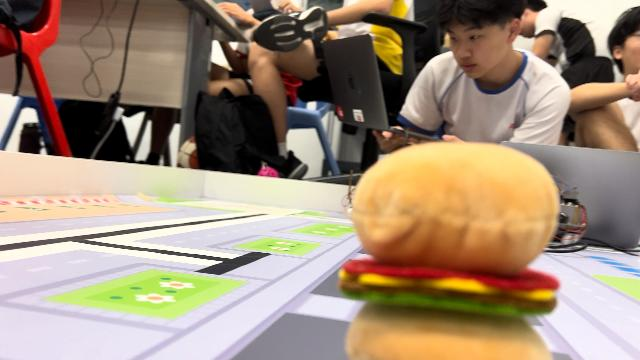burger: (346, 142, 560, 360)
